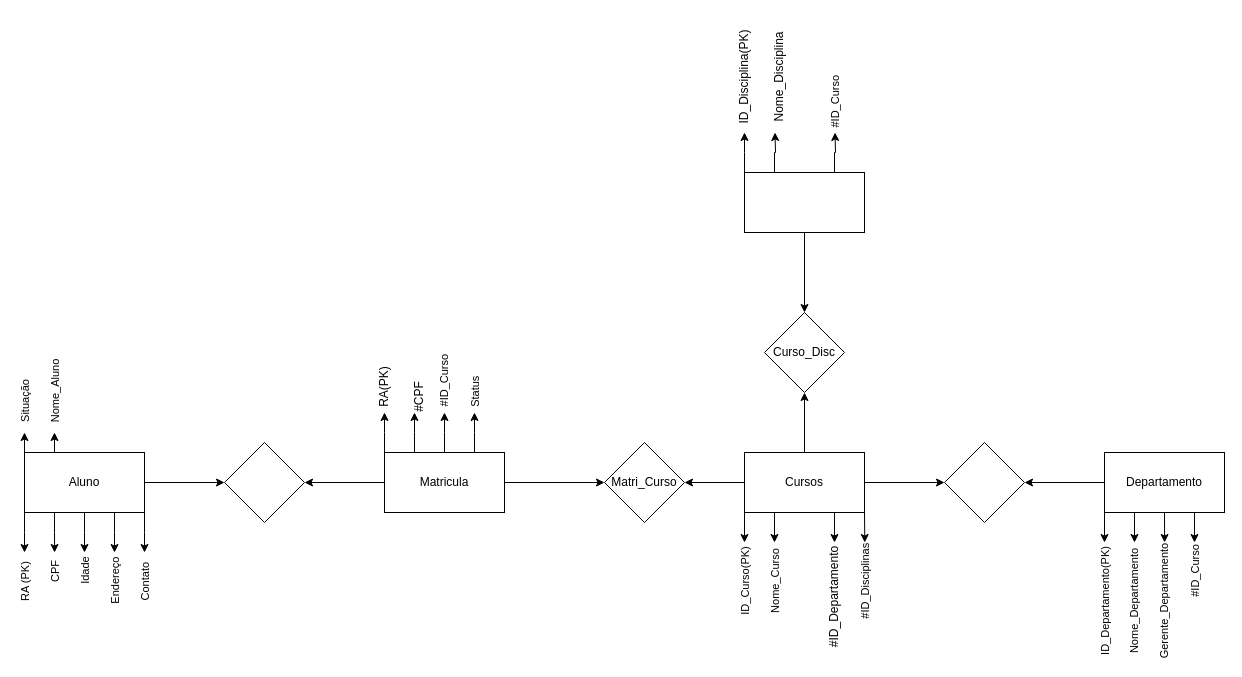
Some shapes in this 1242 by 677 pixel diagram are drawn without their labels. The shapes that lost their labels are listed below. From the top down, each one's box as (x1, y1, x2, y2) in pixels, then its label:
(744, 172, 864, 232): Disciplinas
(224, 442, 304, 522): Aluno_Matri
(944, 442, 1024, 522): Curso_Dep
